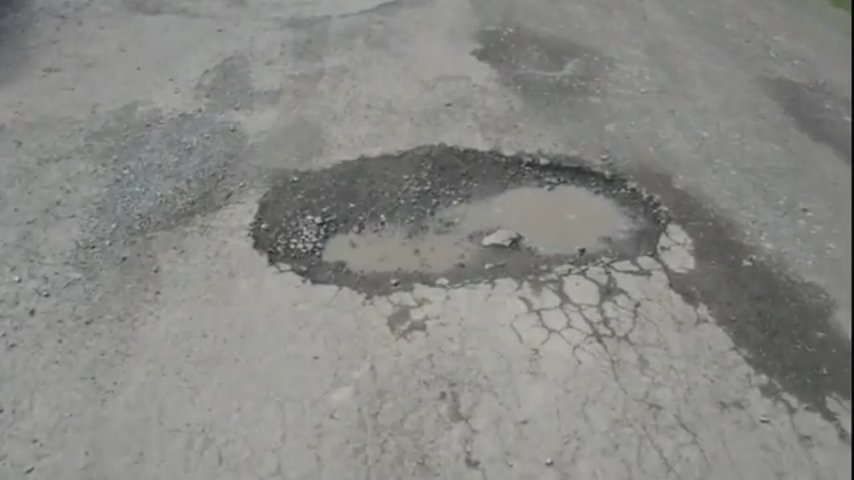pothole: (300, 166, 650, 410), (610, 126, 780, 370)
